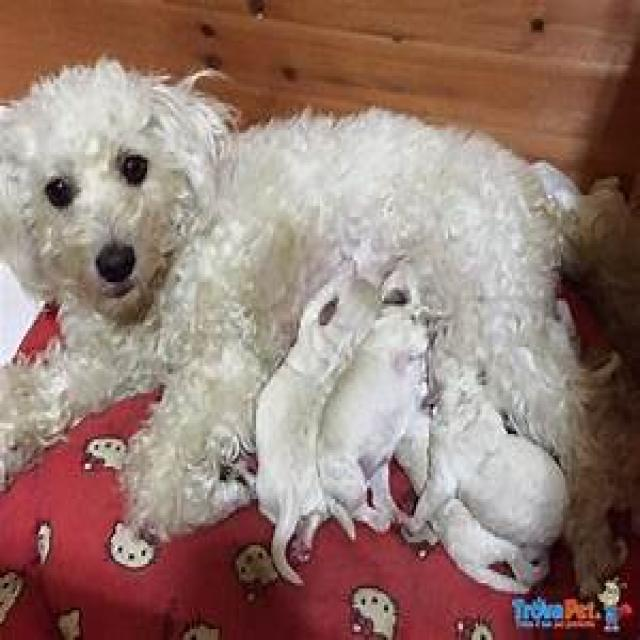dog: (0, 60, 640, 599)
